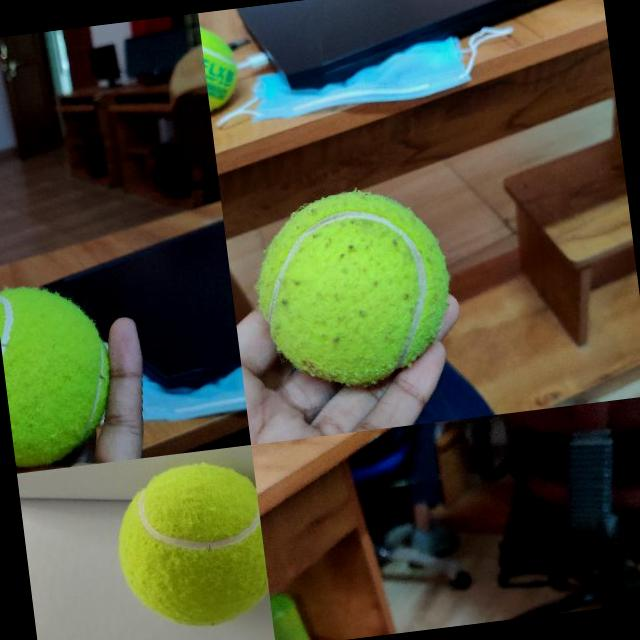Tennis Ball: (244, 180, 461, 399), (106, 455, 271, 638), (0, 277, 120, 469), (199, 19, 242, 114)
